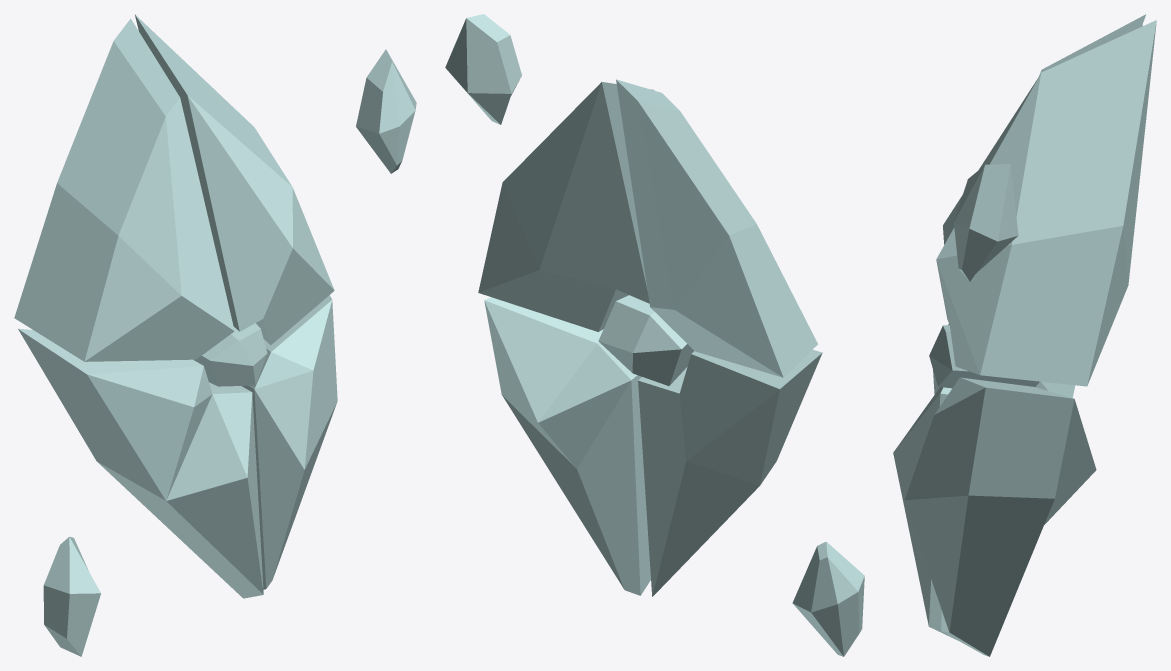
The model's file is Fragmento_de_luna.fbx.
The picture shows the model from 3 angles, left to right: view 1: azimuth 30°, elevation 25°; view 2: azimuth 150°, elevation 25°; view 3: azimuth 270°, elevation 25°; orthographic projection. The views are drawn at different scales.
Parts seen in each view (by area): view 1: P3, P2, P4, P1, PC2, PC1, Centro; view 2: P3, P4, P1, P2, PC2, PC1, Centro; view 3: P4, P1, PC1, P2, Centro, P3.
Part boxes in pixels (x1=…): P3: x1=14, y1=18, x2=234, y2=361; P2: x1=18, y1=328, x2=263, y2=598; P4: x1=135, y1=14, x2=334, y2=344; P1: x1=242, y1=295, x2=337, y2=589; PC2: x1=43, y1=536, x2=100, y2=656; PC1: x1=356, y1=49, x2=416, y2=173; Centro: x1=193, y1=323, x2=267, y2=386; P3: x1=616, y1=79, x2=817, y2=377; P4: x1=478, y1=82, x2=654, y2=331; P1: x1=484, y1=297, x2=650, y2=595; P2: x1=638, y1=349, x2=822, y2=596; PC2: x1=792, y1=541, x2=864, y2=656; PC1: x1=445, y1=14, x2=521, y2=124; Centro: x1=598, y1=295, x2=693, y2=385; P4: x1=936, y1=20, x2=1156, y2=386; P1: x1=904, y1=377, x2=1096, y2=656; PC1: x1=954, y1=164, x2=1018, y2=281; P2: x1=893, y1=324, x2=1075, y2=640; Centro: x1=929, y1=325, x2=1039, y2=388; P3: x1=943, y1=14, x2=1146, y2=244.
Bounding box in the file's own units: 38.15 × 53.53 × 20.24.
